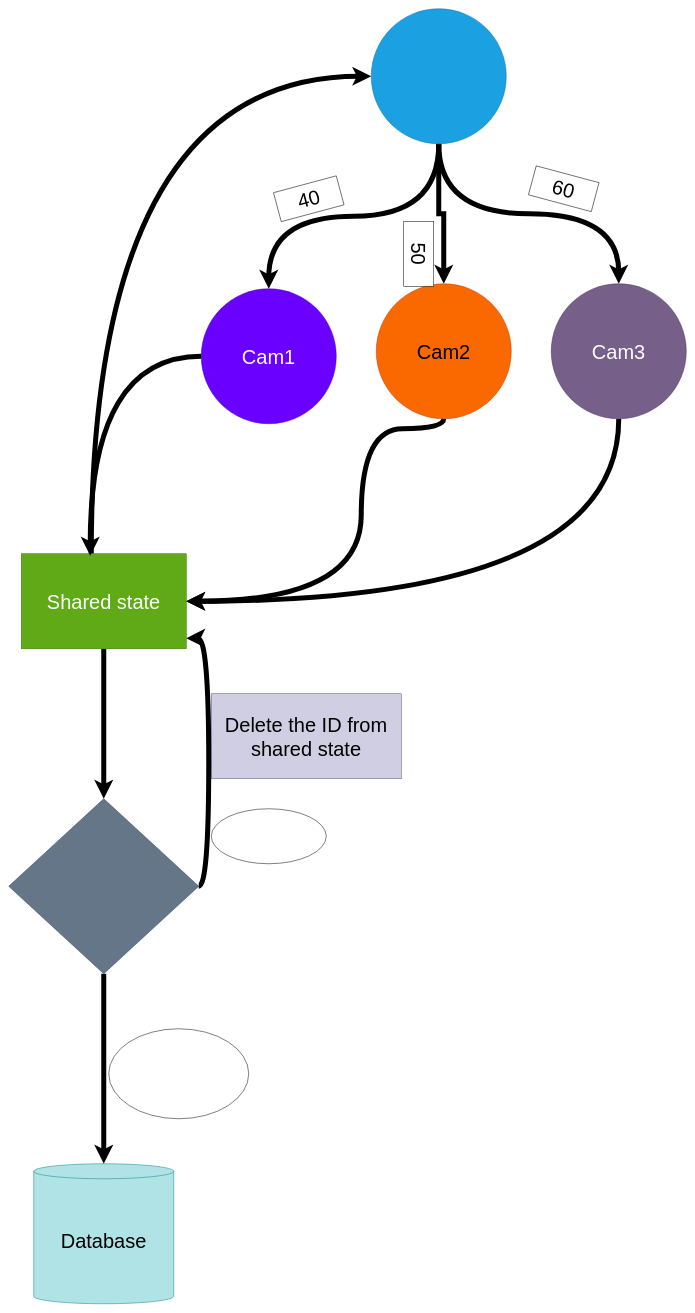
This 695x1313 diagram has some shape labels left out. The box of each missing label's shape, as (x1, y1, x2, y2) in pixels:
Cam1 (number plate detector): (371, 8, 506, 144)
If number plate detected: (8, 798, 199, 974)
No: (211, 808, 326, 864)
Yes: (108, 1028, 249, 1119)
